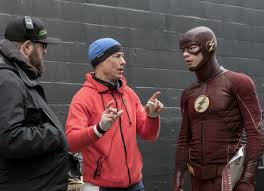Caution: (67, 26, 262, 191), (1, 14, 164, 191)
